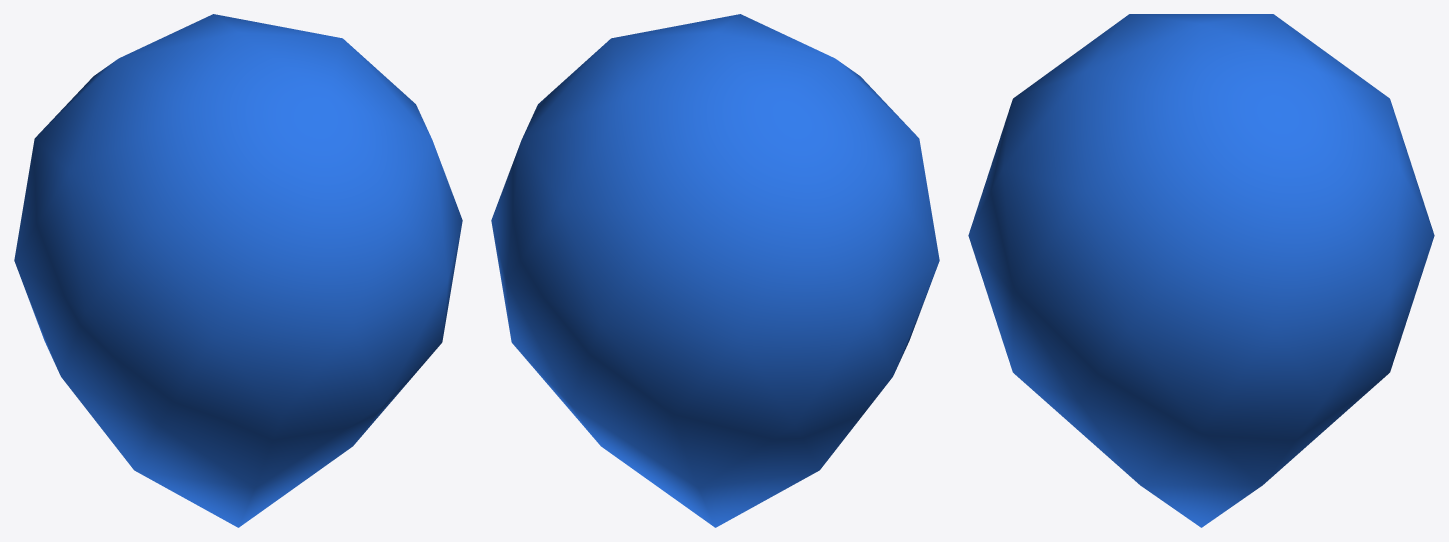
Rendered from BlueBalloon.fbx.
The picture shows the model from 3 angles, left to right: view 1: azimuth 30°, elevation 25°; view 2: azimuth 150°, elevation 25°; view 3: azimuth 270°, elevation 25°; orthographic projection.
Visible parts, largest first — view 1: Icosphere; view 2: Icosphere; view 3: Icosphere.
Boxes of the visible parts, bbox=[...] form: Icosphere: bbox=[14, 14, 462, 527]; Icosphere: bbox=[491, 14, 939, 527]; Icosphere: bbox=[968, 14, 1434, 527].
Bounding box in the file's own units: 190 × 238 × 200.
